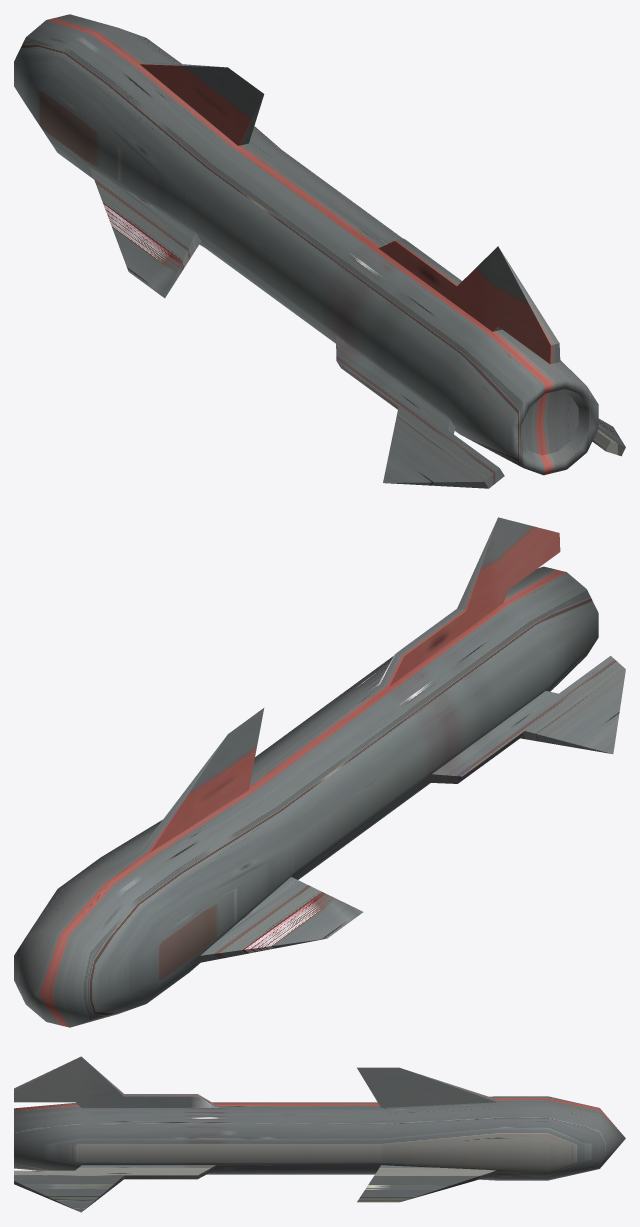
The model's file is wasp.FBX.
The picture shows the model from 3 angles, top to bottom: view 1: azimuth 30°, elevation 25°; view 2: azimuth 150°, elevation 25°; view 3: azimuth 270°, elevation 25°; orthographic projection. The views are drawn at different scales.
Parts seen in each view (by area): view 1: Wasp_IRSwarm; view 2: Wasp_IRSwarm; view 3: Wasp_IRSwarm.
Boxes of the visible parts, x1,y1,x2,y2 form: Wasp_IRSwarm: [14, 14, 625, 488]; Wasp_IRSwarm: [14, 517, 625, 1027]; Wasp_IRSwarm: [14, 1056, 625, 1212].
Size of the model in its own units: 0.1703 by 0.1475 by 0.6648.
1 material, 1 textured.
